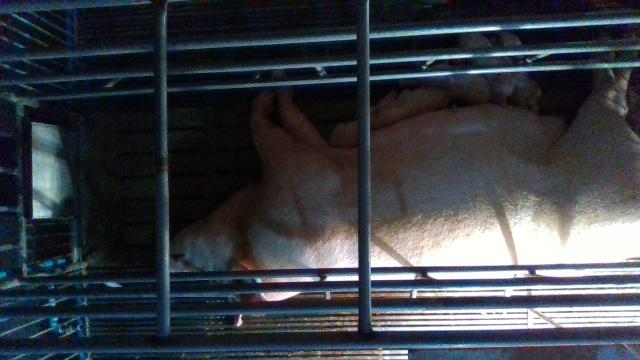piglet: (456, 30, 515, 108), (495, 32, 542, 111), (372, 84, 452, 129), (327, 105, 407, 148), (424, 60, 492, 108)
sow-sleep-lactate: (171, 68, 640, 328)
